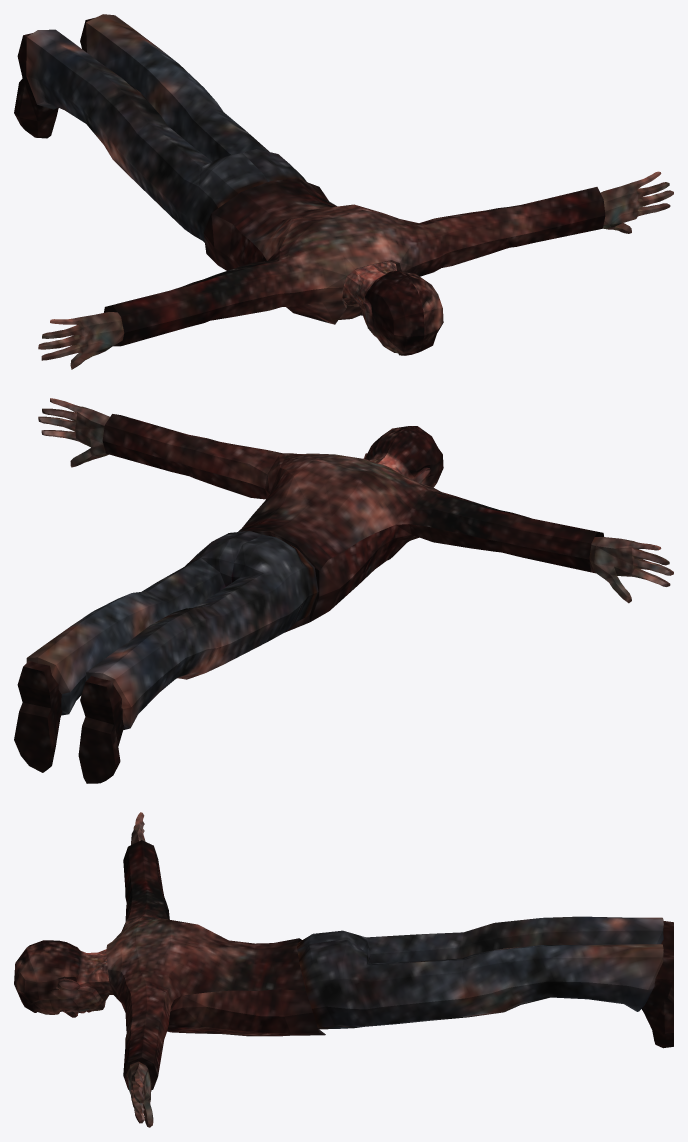
The model's file is tomdrinman5_3ksnowed_wtf.obj.
The picture shows the model from 3 angles, top to bottom: view 1: azimuth 30°, elevation 25°; view 2: azimuth 150°, elevation 25°; view 3: azimuth 270°, elevation 25°; orthographic projection. The views are drawn at different scales.
Visible parts, largest first — view 1: group1; view 2: group1; view 3: group1.
Part boxes in pixels (x1=…): group1: x1=14, y1=14, x2=673, y2=369; group1: x1=14, y1=398, x2=673, y2=783; group1: x1=14, y1=812, x2=673, y2=1127.
Bounding box in the file's own units: 660 × 113 × 647.
